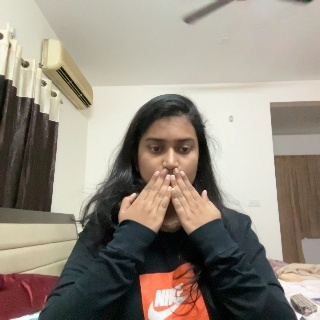Thank You: (110, 171, 232, 244)
